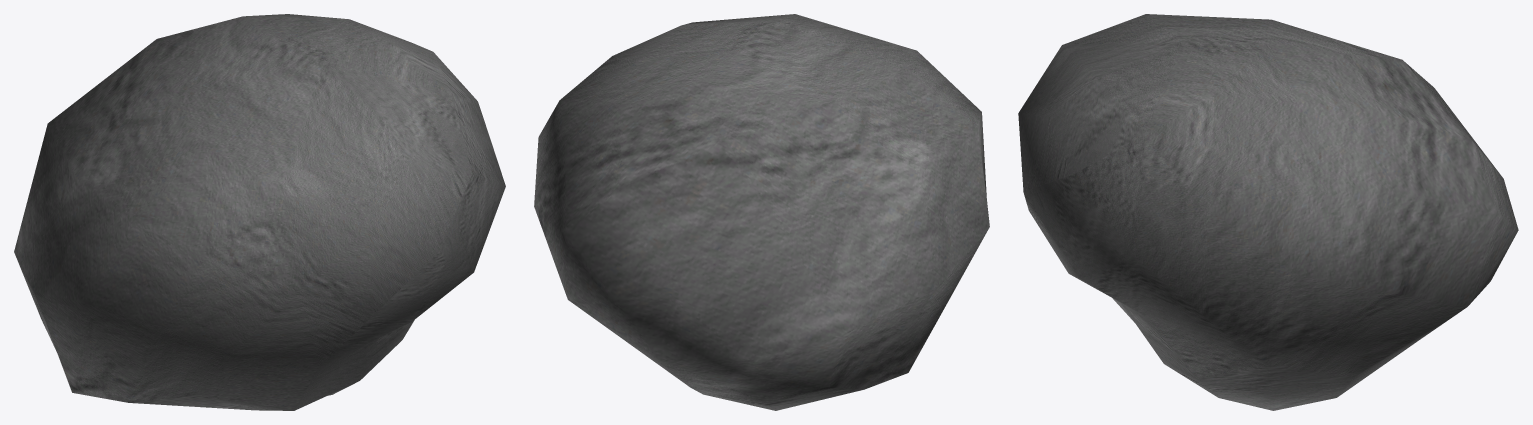
The model's file is StoneShape21.dae.
3 views of the same model, side by side, from view 1: azimuth 30°, elevation 25°; view 2: azimuth 150°, elevation 25°; view 3: azimuth 270°, elevation 25° (orthographic). The views are drawn at different scales.
Visible parts, largest first — view 1: Stone21; view 2: Stone21; view 3: Stone21.
Boxes of the visible parts, x1,y1,x2,y2 form: Stone21: (14, 14, 505, 410); Stone21: (534, 14, 989, 410); Stone21: (1018, 14, 1518, 410).
Bounding box in the file's own units: 32.43 × 25.85 × 32.08.
